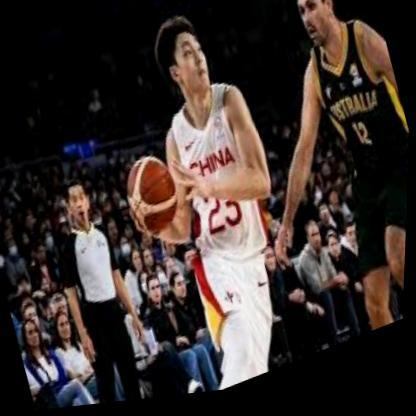basketball: (120, 153, 187, 242)
